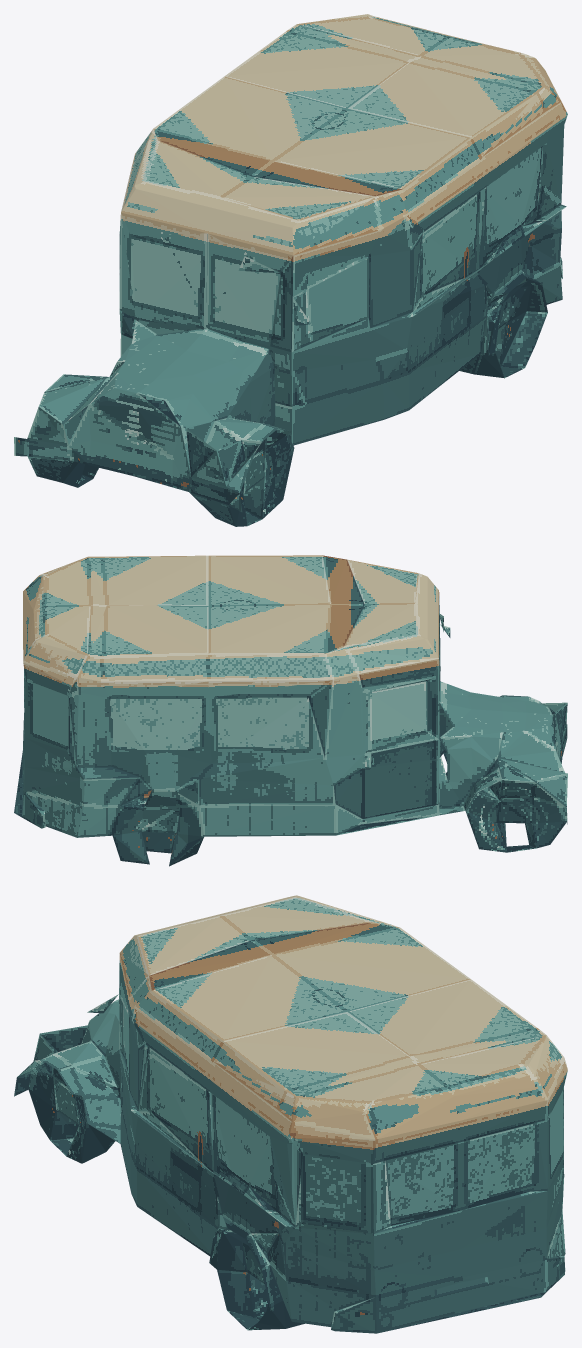
Rendered from bus.glb.
3 renders of one model, top to bottom at view 1: azimuth 30°, elevation 25°; view 2: azimuth 150°, elevation 25°; view 3: azimuth 270°, elevation 25°, orthographic. The views are drawn at different scales.
Visible parts, largest first — view 1: model_v; view 2: model_v; view 3: model_v.
Part boxes in pixels (x1=…): model_v: x1=14, y1=14, x2=567, y2=526; model_v: x1=14, y1=555, x2=567, y2=866; model_v: x1=14, y1=895, x2=567, y2=1333.
Bounding box in the file's own units: 47.55 × 19.79 × 38.
1 material, 1 textured.
